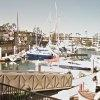Boat: (24, 36, 72, 61)
